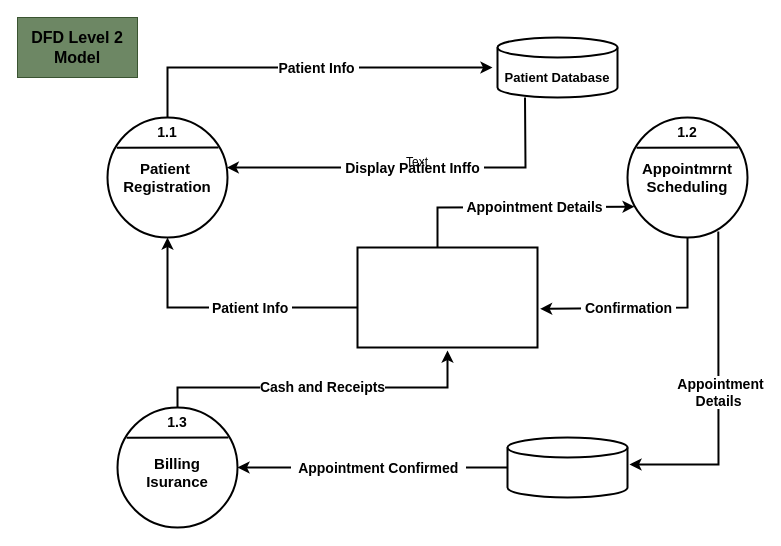
This 781x546 diagram has some shape labels left out. Each missing label, with the centre of its shape:
Appointment Database: pixel 567 467
Patient: pixel 447 297
